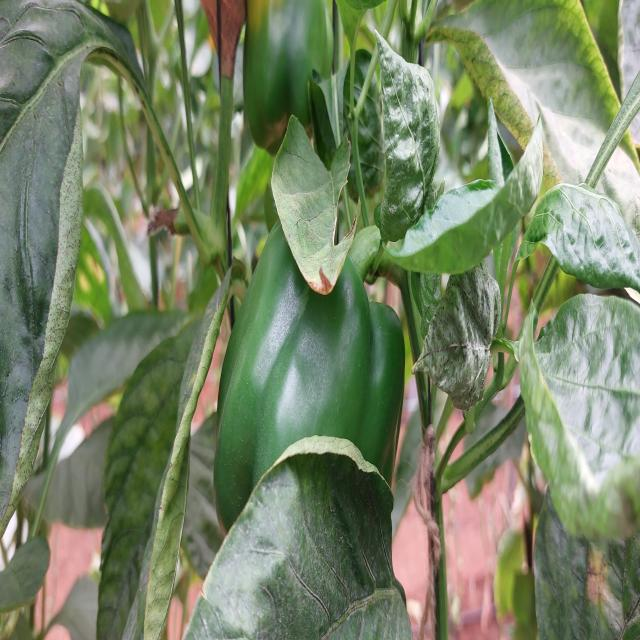Green--Not-ready-to-harvest: (210, 209, 414, 594), (245, 3, 344, 137)
